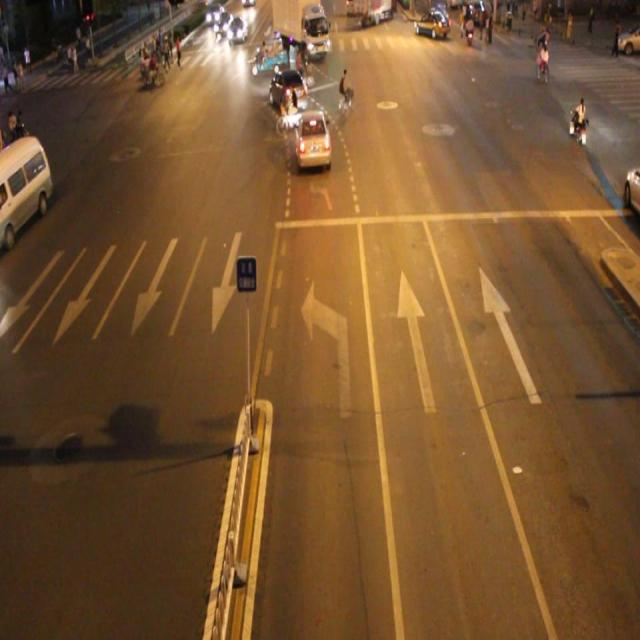car: (293, 108, 332, 171), (268, 68, 307, 119)
truck: (1, 135, 52, 248)
